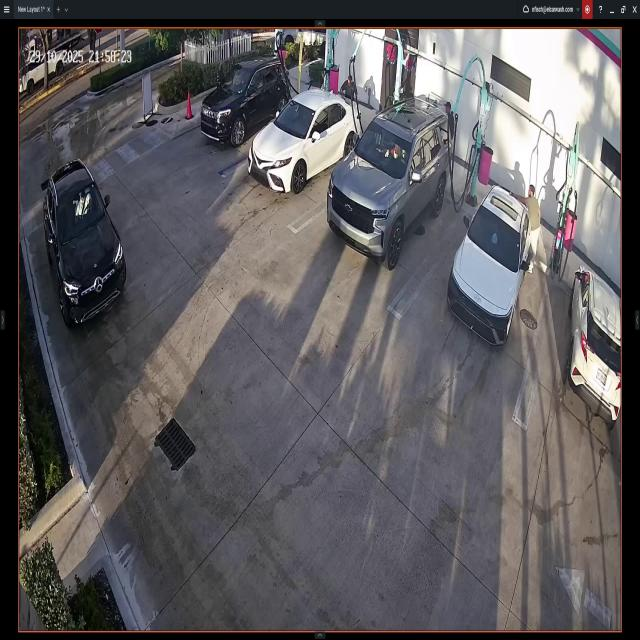Car: (329, 97, 452, 273), (42, 161, 126, 333), (450, 188, 530, 348), (250, 89, 360, 194), (570, 267, 622, 423), (201, 59, 286, 139), (275, 26, 330, 53)
